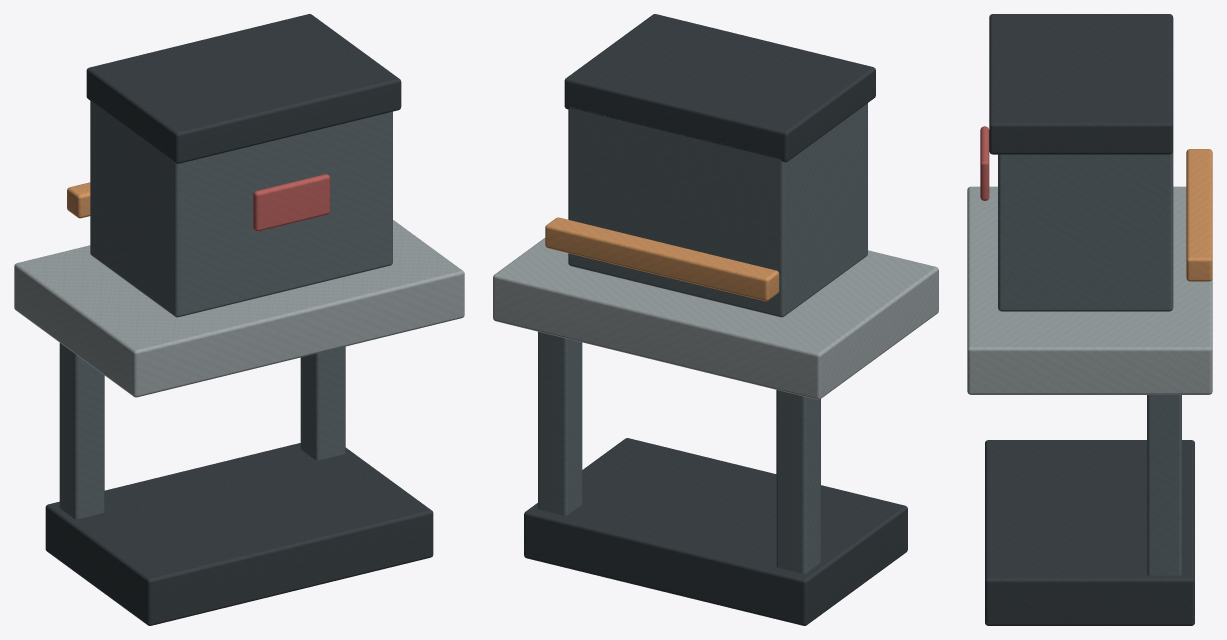
The model's file is MobileEvidenceCart.fbx.
3 renders of one model, left to right at view 1: azimuth 30°, elevation 25°; view 2: azimuth 150°, elevation 25°; view 3: azimuth 270°, elevation 25°, orthographic.
Parts seen in each view (by area): view 1: MobileEvidenceCart_Mesh; view 2: MobileEvidenceCart_Mesh; view 3: MobileEvidenceCart_Mesh.
Boxes of the visible parts, x1,y1,x2,y2 form: MobileEvidenceCart_Mesh: (14, 14, 464, 625); MobileEvidenceCart_Mesh: (493, 14, 938, 625); MobileEvidenceCart_Mesh: (967, 14, 1212, 625).
Size of the model in its own units: 88 by 123 by 56.
5 materials, 5 textured.
